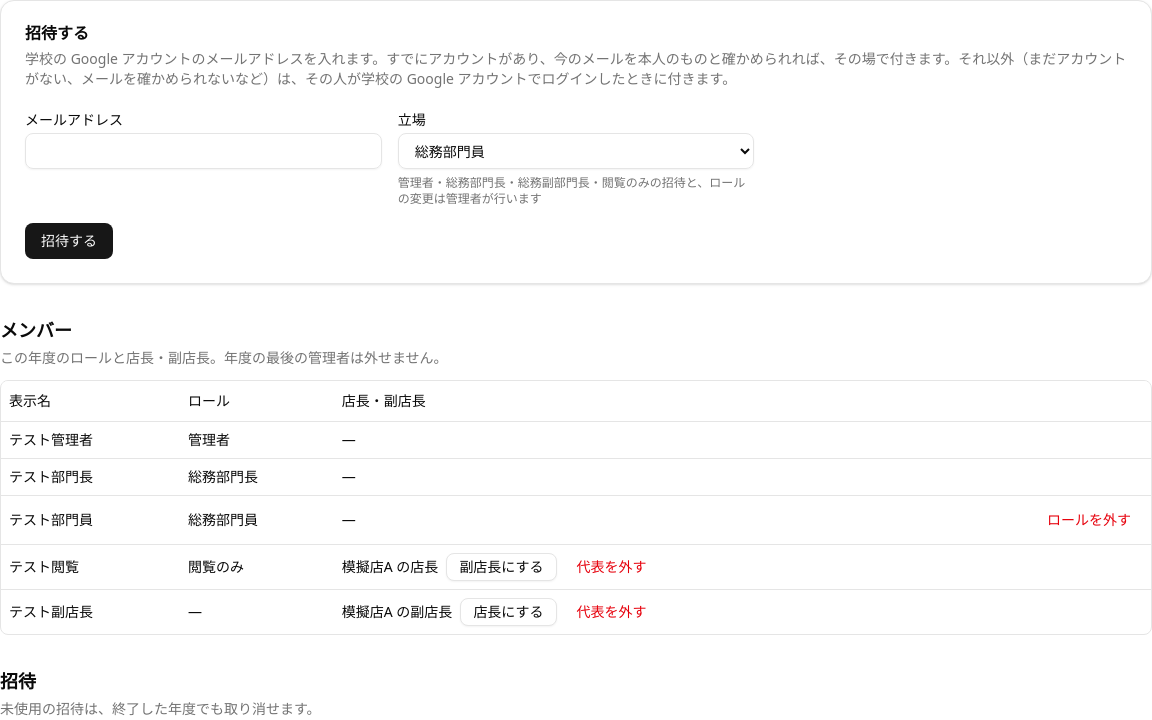
Test: 招待の立場（段ごと。D-50） › 店長・副店長の招待がその場で付いたら、付いた立場（「{団体} の副店長」）で知らせる
Expected: the form with test id "invite-form" is shown, [25,110,754,259]
Select "副店長" in the dropdown labelled "立場" at (576, 151), box [398,133,754,169]
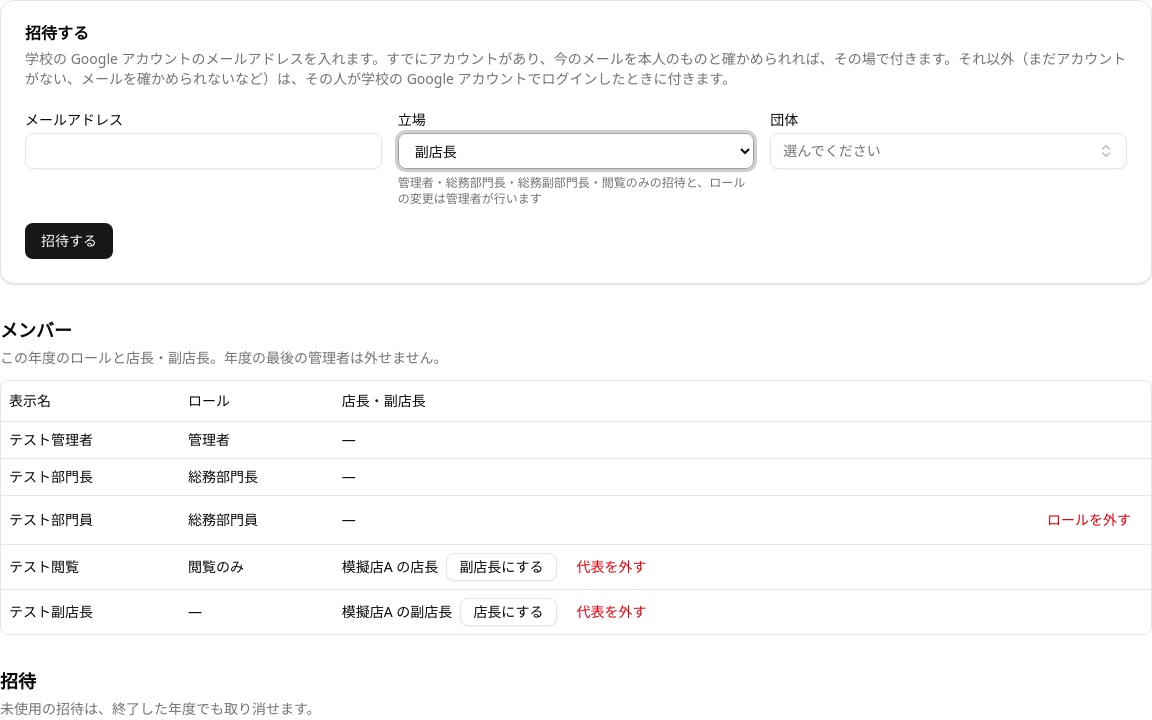
Click the dropdown named "団体" at (832, 150), box [770,133,1127,169]
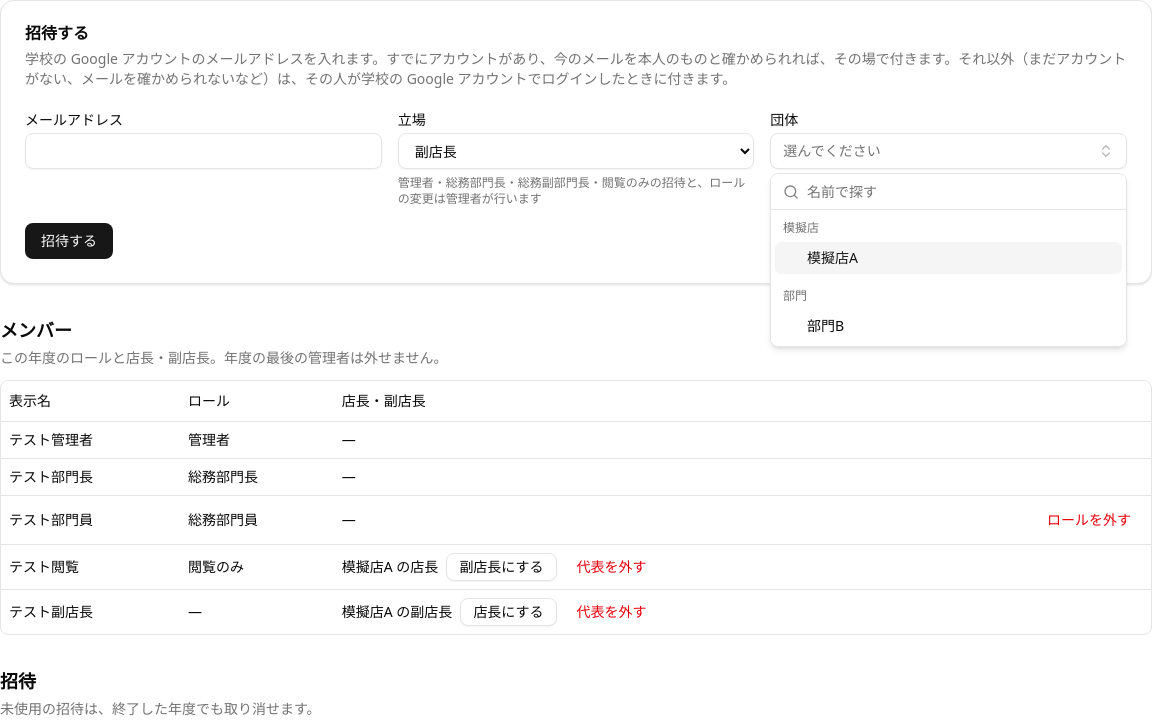
Click the option "模擬店A" at (832, 258), box [775,242,1122,274]
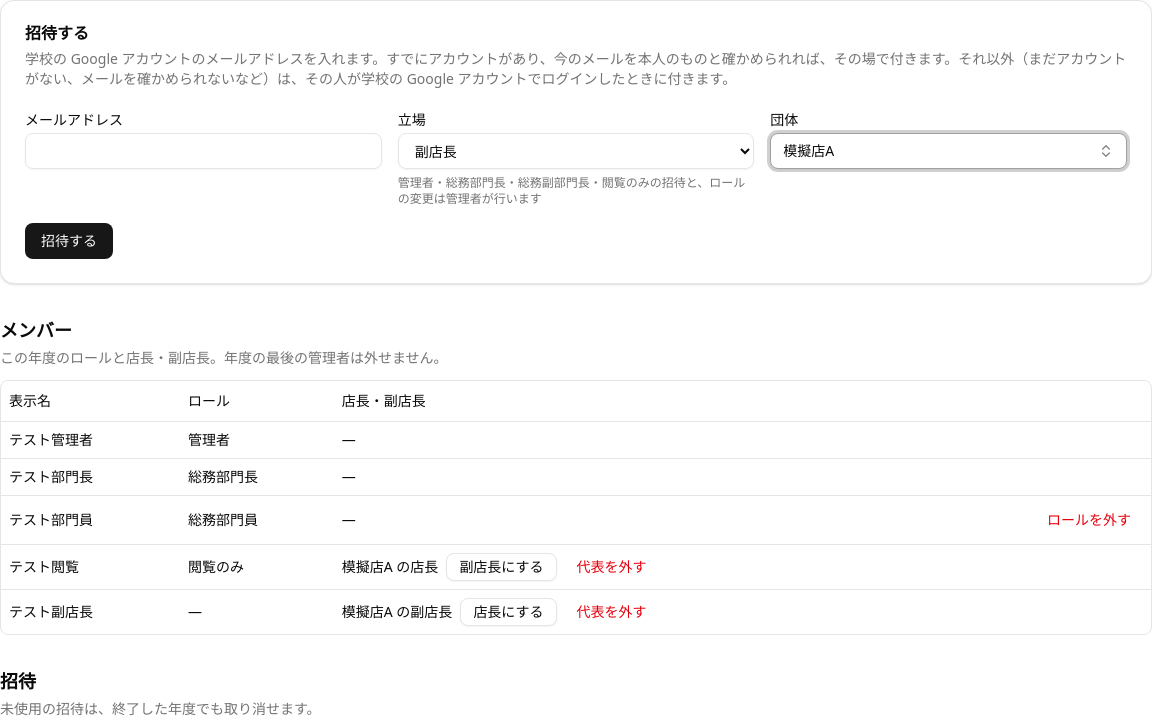
Type "rep-now@example.test" into the field labelled "メールアドレス" at (203, 151), box [25,133,382,169]
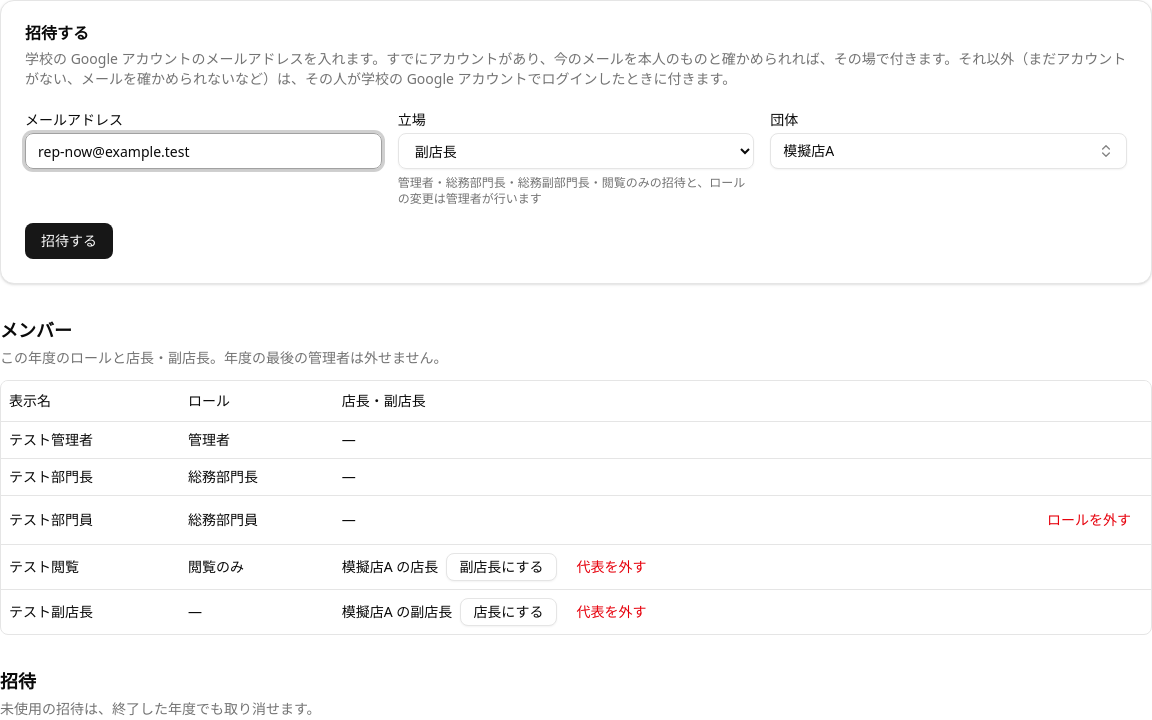
Click the button "招待する" at (69, 241), box [25,223,113,259]
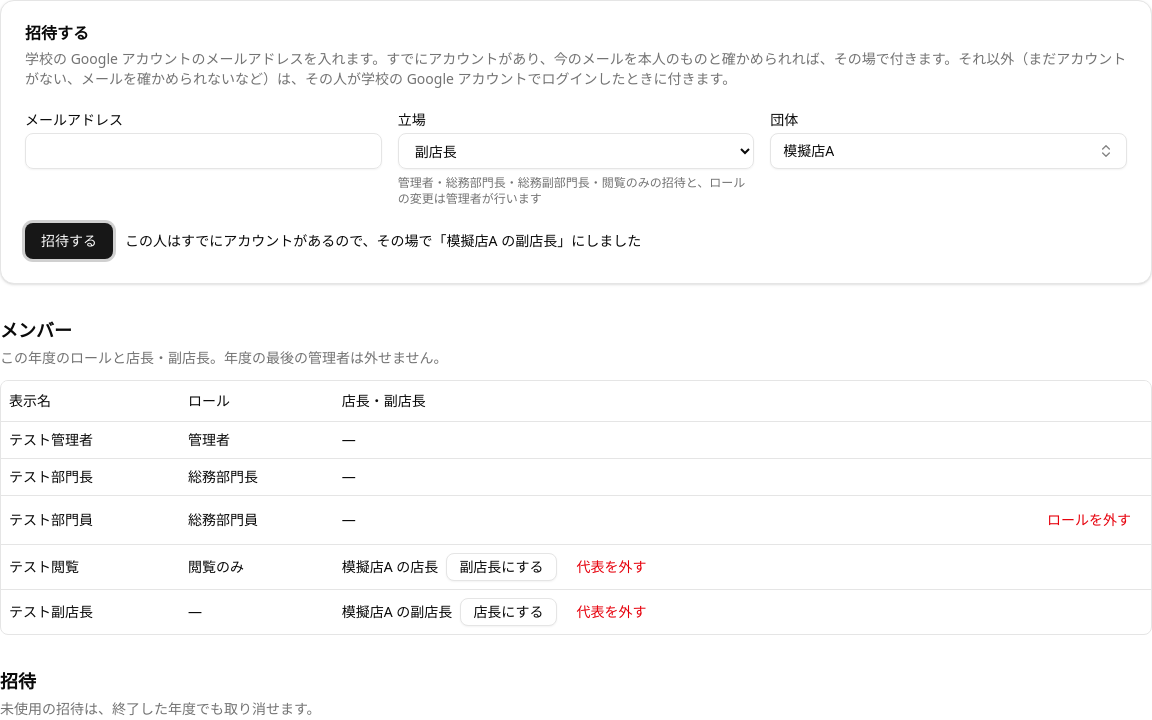
Expected: the message with test id "invite-result" reads "この人はすでにアカウントがあるので、その場で「模擬店A の副店長」にしました", [125,231,641,250]
